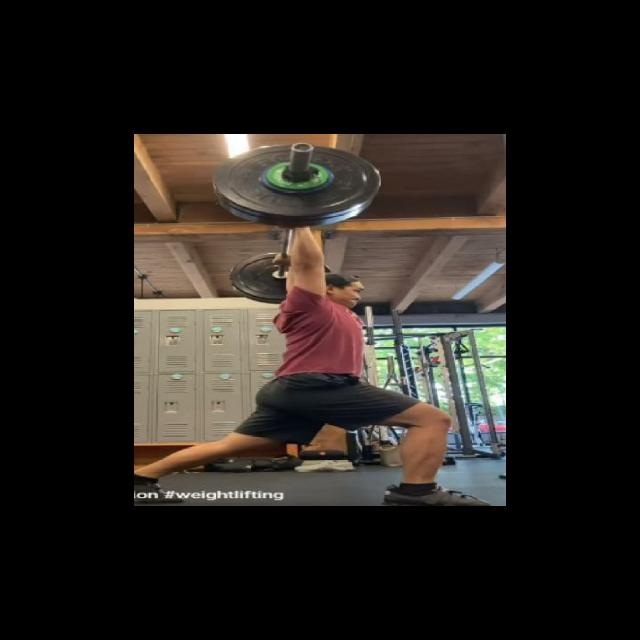barbell: (211, 141, 382, 220)
